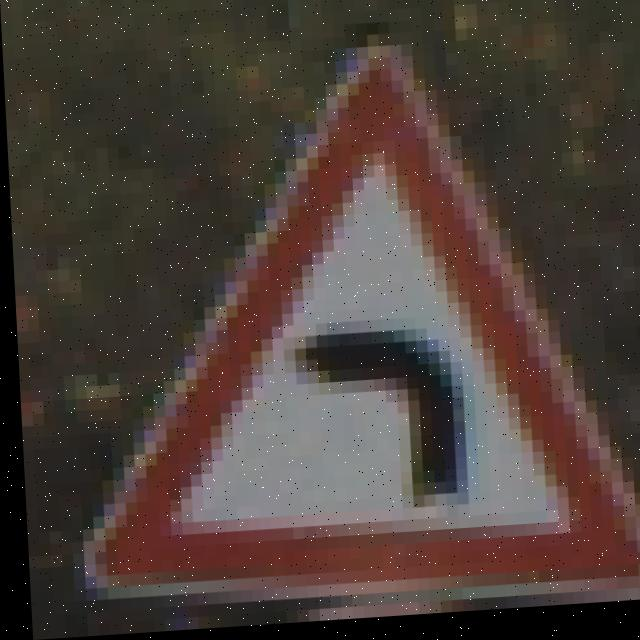left_turn: (36, 17, 640, 638)
